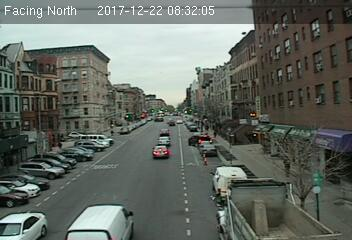car: (199, 144, 218, 156), (152, 144, 168, 157), (158, 136, 171, 145)
truck: (65, 202, 136, 240), (209, 166, 249, 200)
